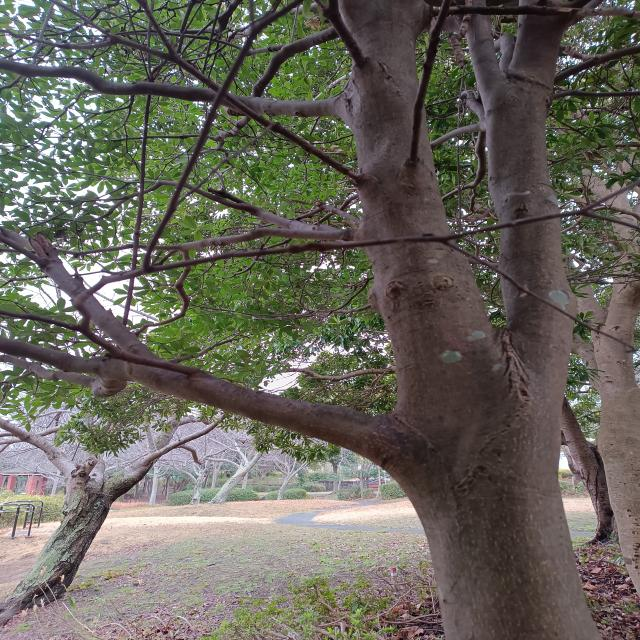Branch: (329, 0, 508, 416), (479, 86, 582, 410), (130, 364, 402, 486), (508, 0, 584, 98)
Twig: (0, 58, 342, 117), (73, 266, 210, 376), (43, 252, 163, 359), (96, 242, 360, 288), (155, 181, 362, 233), (0, 336, 140, 385), (253, 27, 340, 97), (0, 356, 130, 398), (136, 250, 193, 336), (461, 1, 507, 95), (176, 228, 360, 251), (1, 308, 83, 331), (0, 235, 53, 266), (57, 246, 176, 254)
